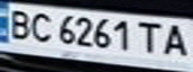1: (112, 17, 136, 52)
2: (72, 14, 96, 48)
6: (51, 11, 78, 47), (90, 16, 115, 51)
A: (157, 21, 193, 60)
B: (3, 7, 36, 39)
C: (24, 10, 57, 43)
T: (133, 18, 166, 55)
